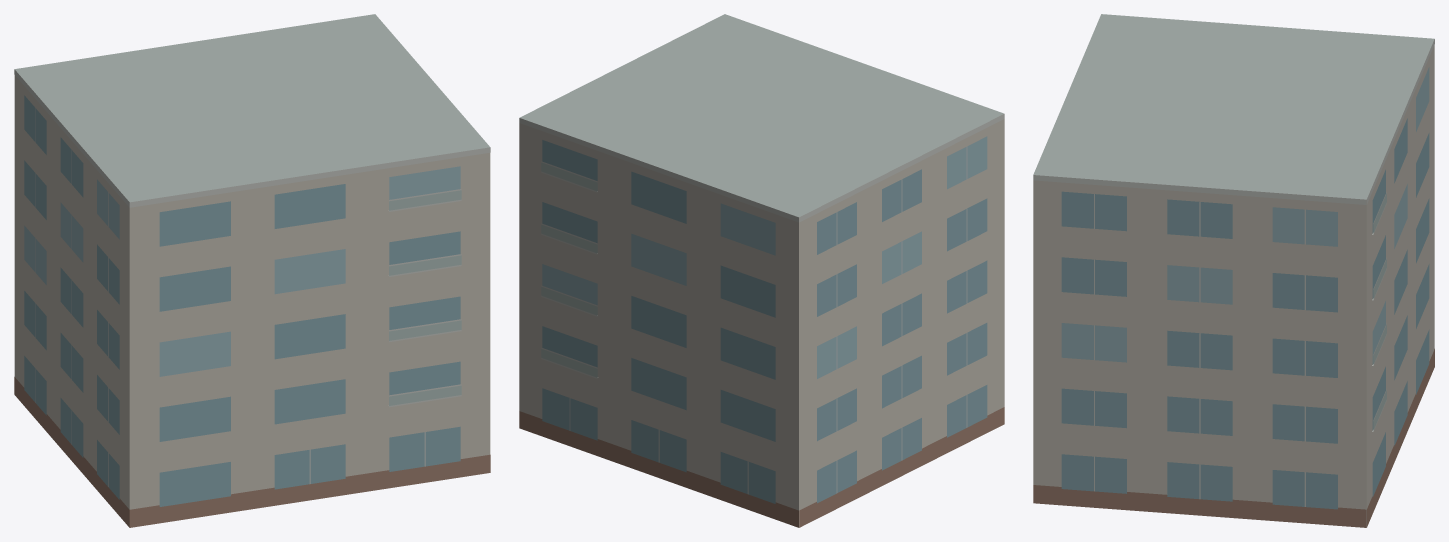
Rendered from survey-upis-32972173.glb.
3 renders of one model, left to right at view 1: azimuth 30°, elevation 25°; view 2: azimuth 150°, elevation 25°; view 3: azimuth 270°, elevation 25°, orthographic. The views are drawn at different scales.
Visible parts, largest first — view 1: survey-upis-32972173.tmp; view 2: survey-upis-32972173.tmp; view 3: survey-upis-32972173.tmp.
Boxes of the visible parts, <box> form: survey-upis-32972173.tmp: <box>14,14,490,527</box>; survey-upis-32972173.tmp: <box>519,14,1004,527</box>; survey-upis-32972173.tmp: <box>1033,14,1434,527</box>.
Bounding box in the file's own units: 17.84 × 14.7 × 16.31.
